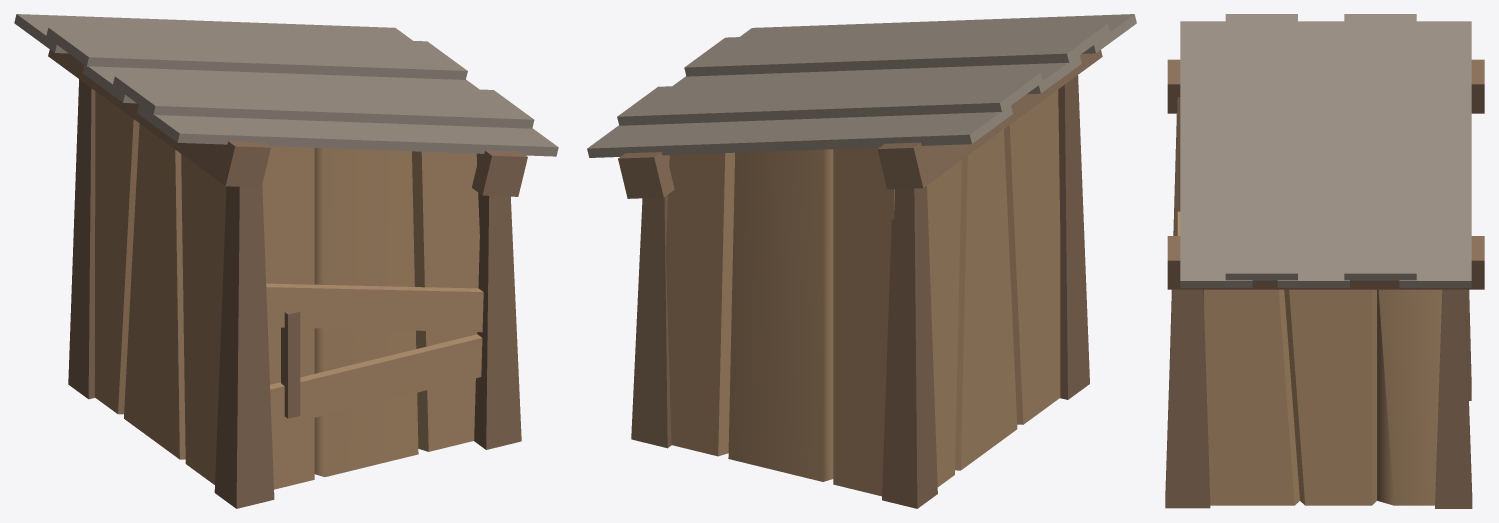
File: Outhouse.fbx
The picture shows the model from 3 angles, left to right: view 1: azimuth 30°, elevation 25°; view 2: azimuth 150°, elevation 25°; view 3: azimuth 270°, elevation 25°; orthographic projection. The views are drawn at different scales.
Visible parts, largest first — view 1: Shit_house; view 2: Shit_house; view 3: Shit_house.
Boxes of the visible parts, x1,y1,x2,y2 form: Shit_house: [14, 14, 558, 508]; Shit_house: [587, 14, 1136, 508]; Shit_house: [1165, 14, 1484, 508].
Size of the model in its own units: 248 by 243 by 201.
